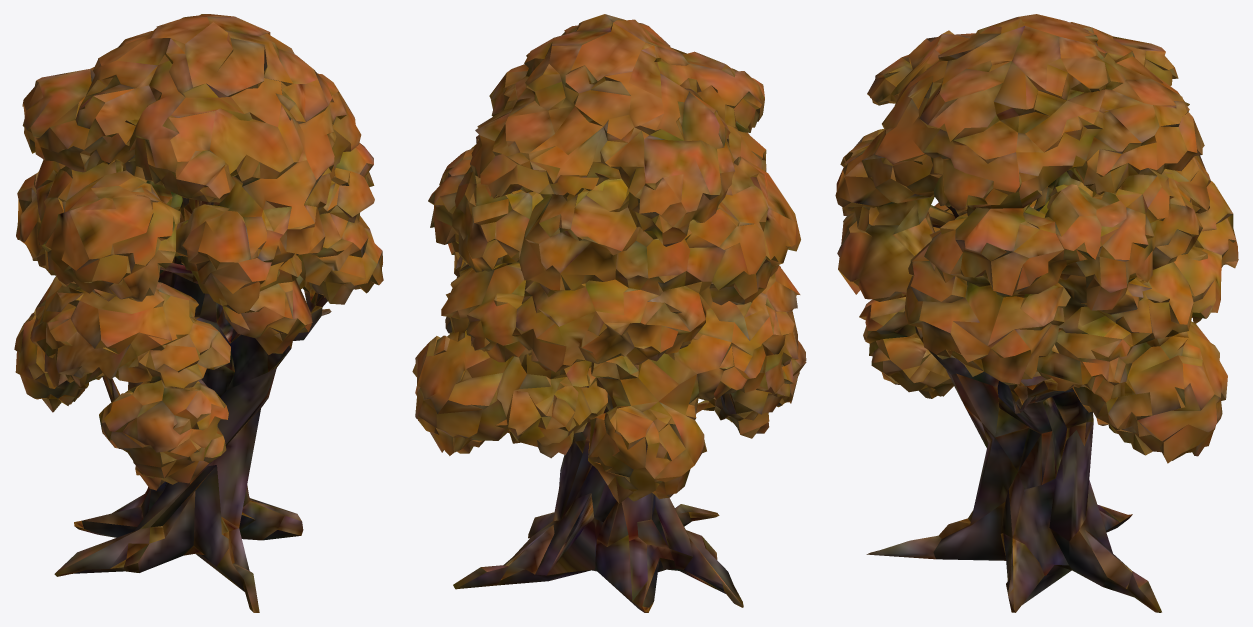
The model's file is OakAutumn.lod1.glb.
3 renders of one model, left to right at view 1: azimuth 30°, elevation 25°; view 2: azimuth 150°, elevation 25°; view 3: azimuth 270°, elevation 25°, orthographic. The views are drawn at different scales.
Bounding box in the file's own units: 3.75 × 6 × 3.97.
Materials: 1 (1 with a texture image).
